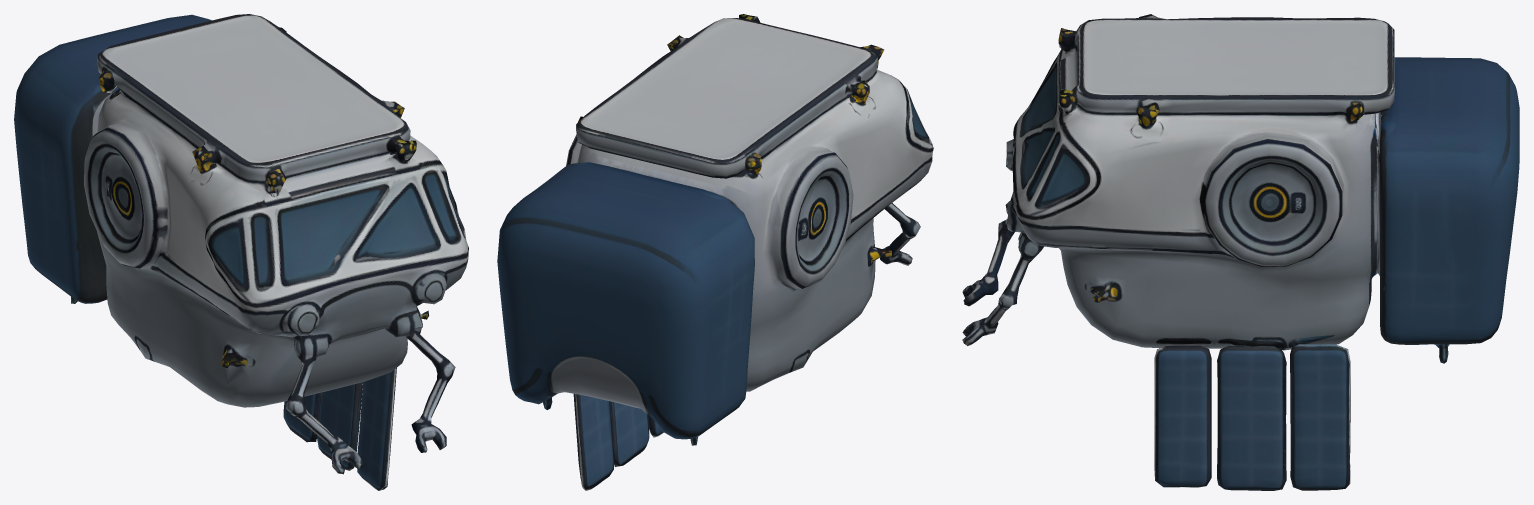
The model's file is navicella 1.fbx.
The picture shows the model from 3 angles, left to right: view 1: azimuth 30°, elevation 25°; view 2: azimuth 150°, elevation 25°; view 3: azimuth 270°, elevation 25°; orthographic projection. The views are drawn at different scales.
Visible parts, largest first — view 1: navicella, pannello, braccio_sx, braccio_dx; view 2: navicella, pannello, braccio_dx; view 3: navicella, pannello, braccio_sx, braccio_dx.
Boxes of the visible parts, bbox=[...] form: navicella: bbox=[14, 14, 468, 407]; pannello: bbox=[283, 368, 396, 490]; braccio_sx: bbox=[405, 326, 455, 452]; braccio_dx: bbox=[286, 355, 363, 474]; navicella: bbox=[497, 14, 933, 445]; pannello: bbox=[573, 394, 663, 490]; braccio_dx: bbox=[880, 203, 920, 265]; navicella: bbox=[1005, 14, 1519, 363]; pannello: bbox=[1154, 344, 1350, 490]; braccio_sx: bbox=[962, 251, 1035, 345]; braccio_dx: bbox=[962, 219, 1014, 306].
Bounding box in the file's own units: 48.61 × 77.06 × 99.65.
1 material, 1 textured.
